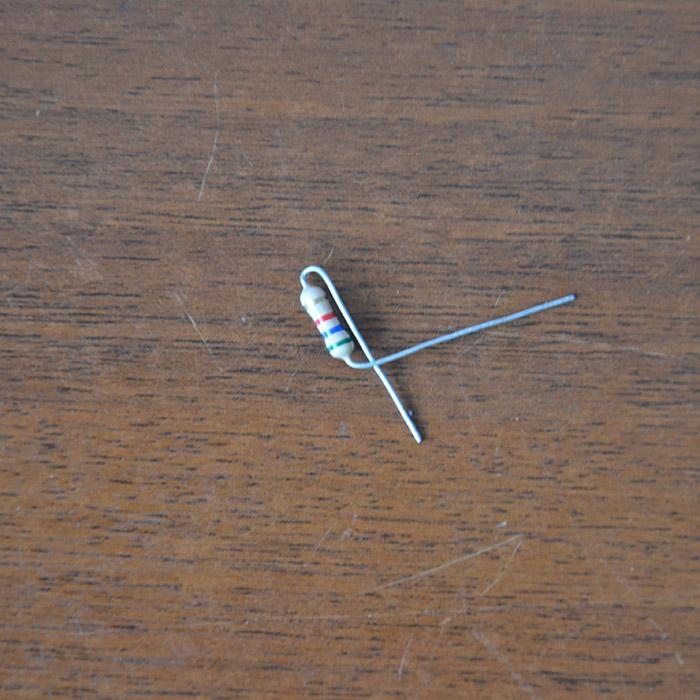resistor: (300, 279, 354, 361)
